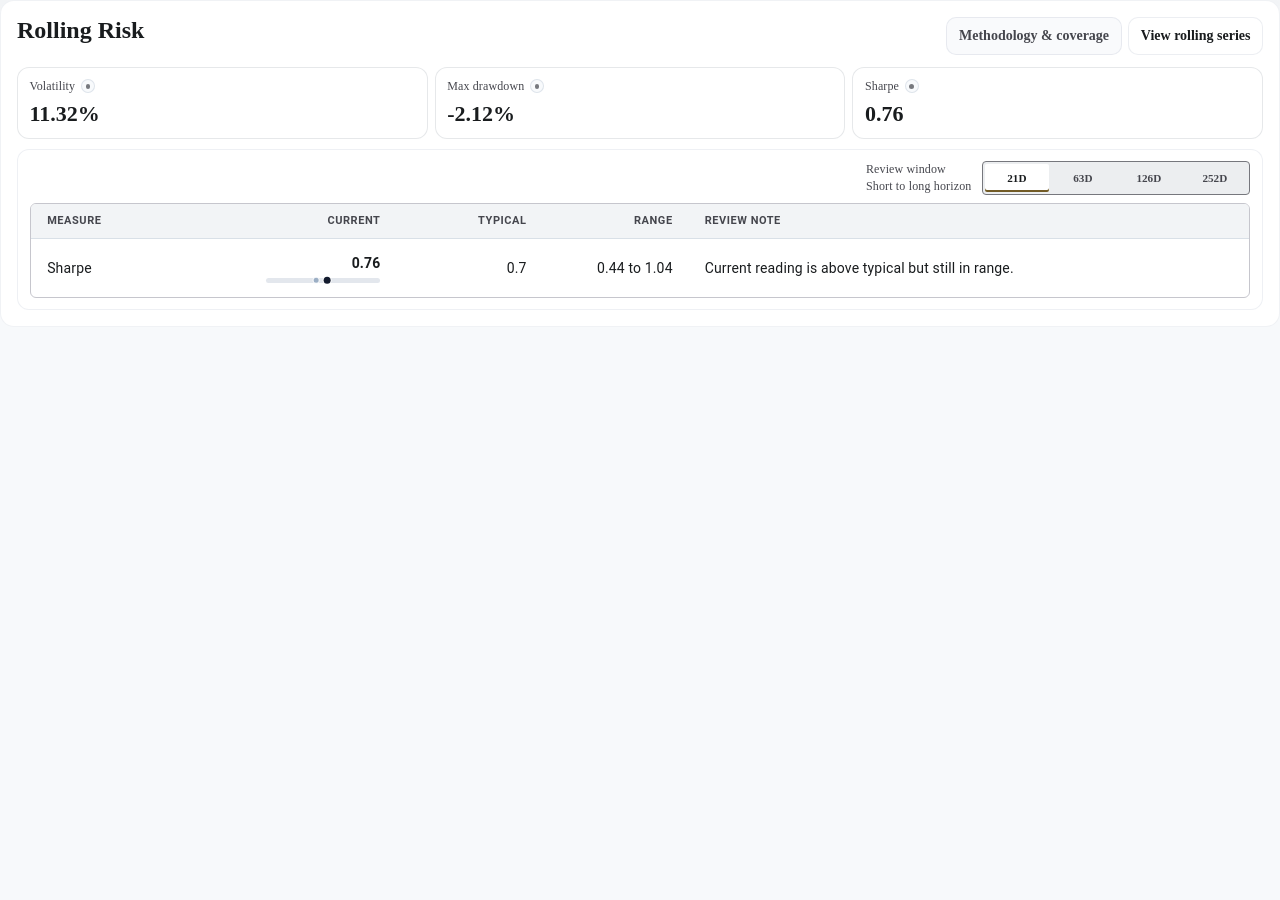
Test: RiskRollingPanel › qualifies benchmark-dependent measures when benchmark context is unavailable
The width and height of the screenshot is (1280, 900).
Click the button with aria-label "Rolling Risk methodology and coverage": [1034, 36] box [946, 17, 1122, 55]
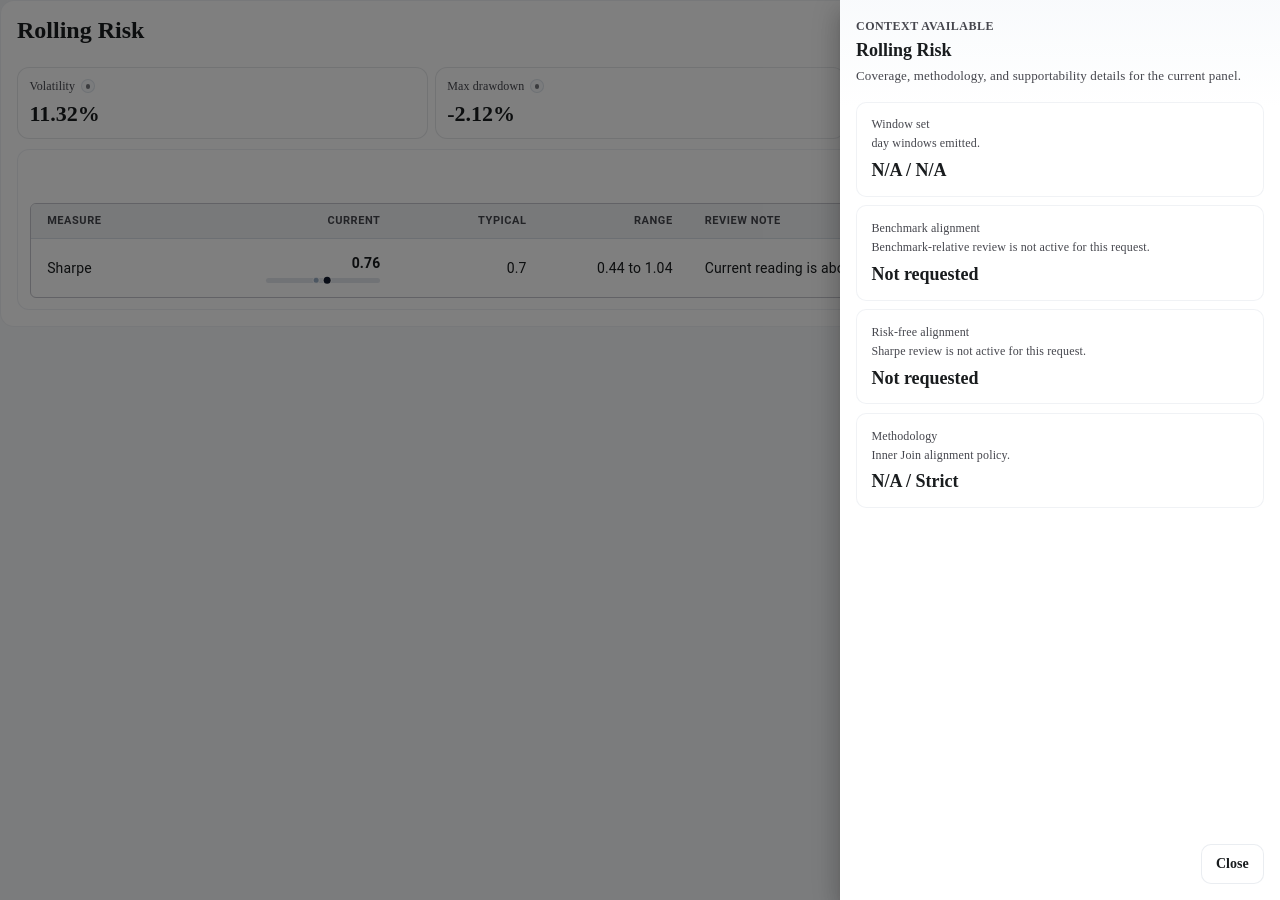
Expected: the dialog named "Rolling Risk methodology and coverage" is shown, [840, 0, 1279, 899]
Expected: the text "Benchmark-relative review is not active for this request." is shown, [871, 240, 1150, 254]
